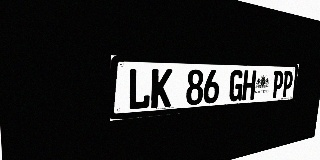6: (203, 70, 221, 104)
8: (186, 69, 205, 105)
G: (228, 70, 244, 102)
H: (242, 70, 257, 101)
K: (151, 69, 173, 108)
L: (127, 68, 151, 110)
P: (271, 71, 284, 98), (281, 71, 294, 97)
